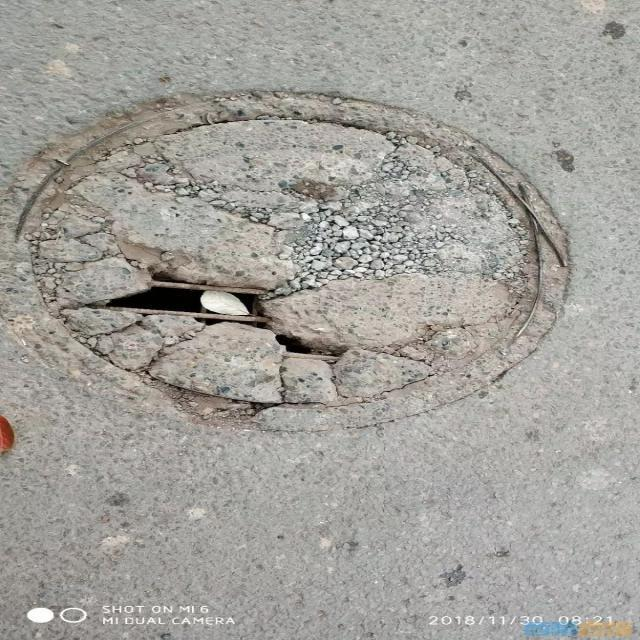manhole: (19, 88, 570, 430)
